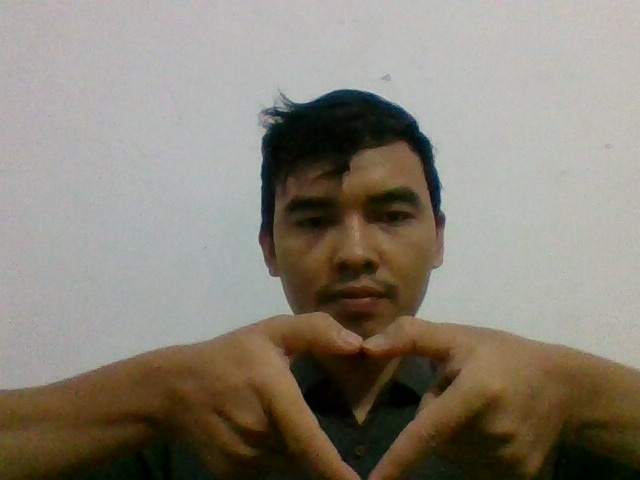iloveyou: (224, 307, 498, 480)
